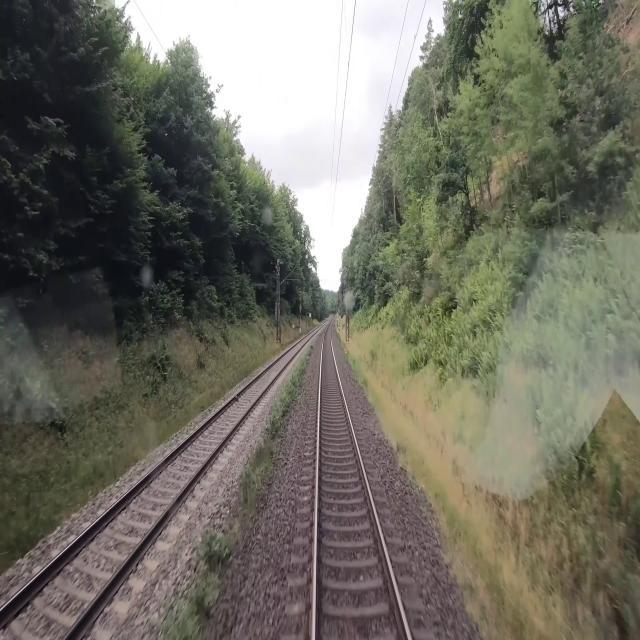Plant: (159, 345, 312, 639)
